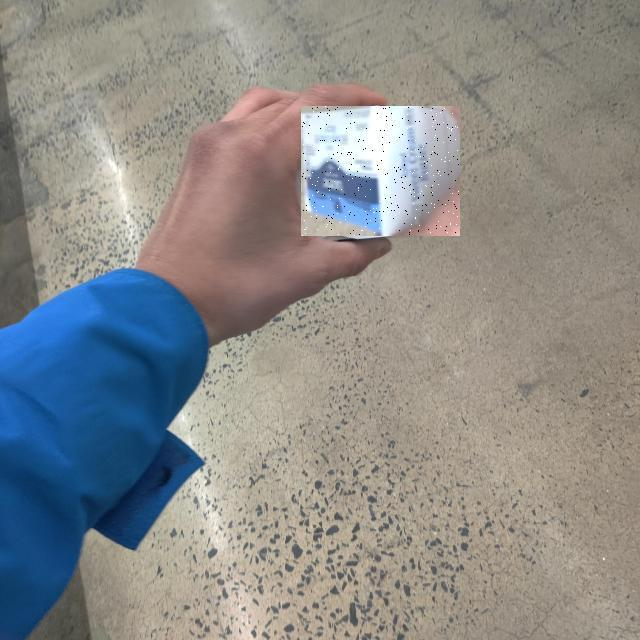Butter: (301, 107, 460, 237)
